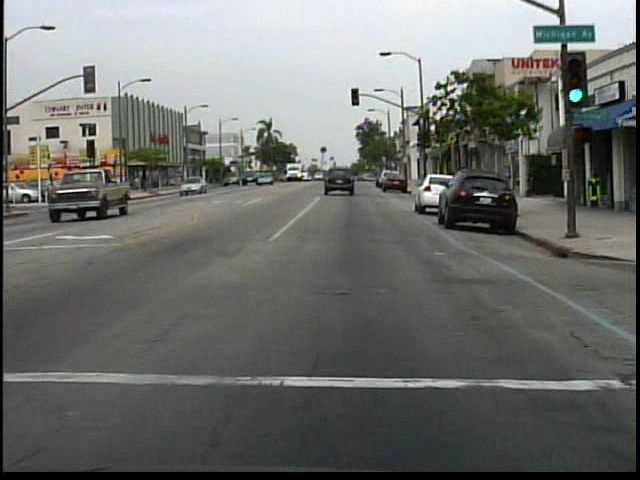person: (88, 179, 107, 207)
